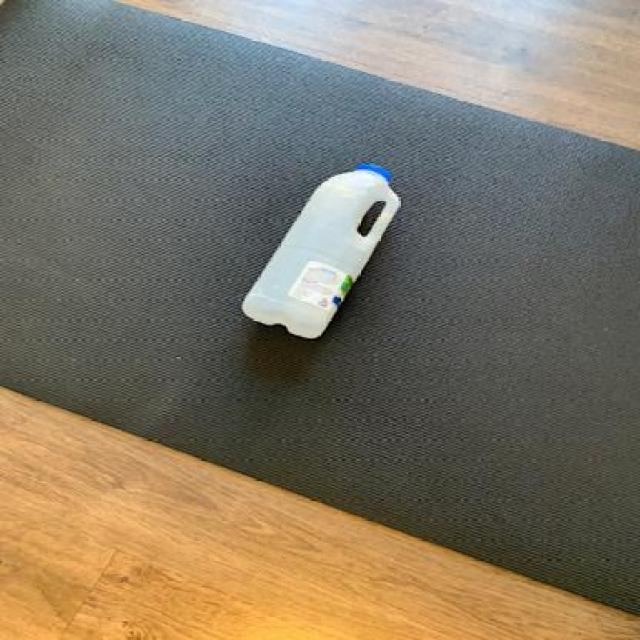trash: (239, 162, 404, 342)
